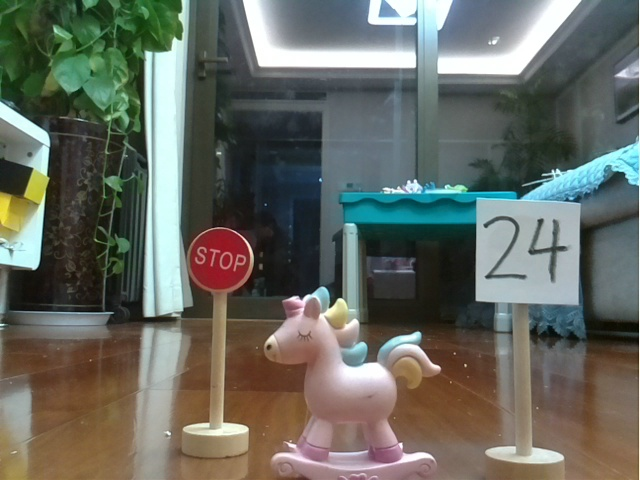Horse: (265, 281, 448, 480)
Speed Limit 24: (468, 190, 583, 480)
Stop Sign: (180, 222, 255, 460)
